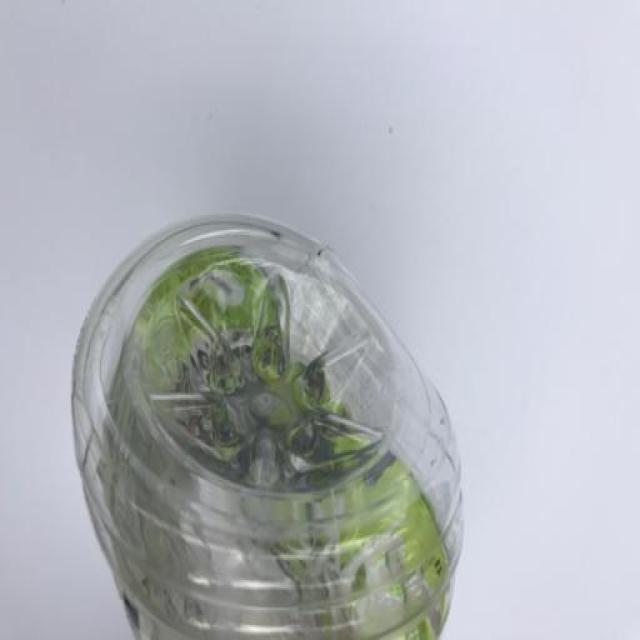plastic: (65, 210, 467, 640)
